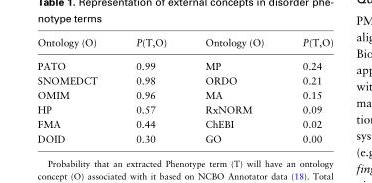table: (36, 37, 332, 143)
table column: (185, 37, 282, 143), (36, 37, 116, 143), (116, 37, 185, 143), (282, 37, 332, 143)
table column header: (36, 37, 332, 54)
table row: (36, 54, 332, 73), (36, 37, 332, 54), (36, 87, 332, 102), (36, 116, 332, 131), (36, 73, 332, 87), (36, 102, 332, 116), (36, 131, 332, 143)
